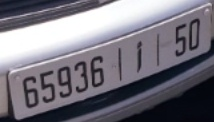0: (188, 18, 200, 51)
3: (73, 61, 88, 93)
5: (38, 69, 55, 104), (174, 23, 188, 58)
6: (22, 75, 39, 108), (90, 54, 105, 86)
9: (57, 67, 71, 98)
a: (132, 40, 145, 75)
